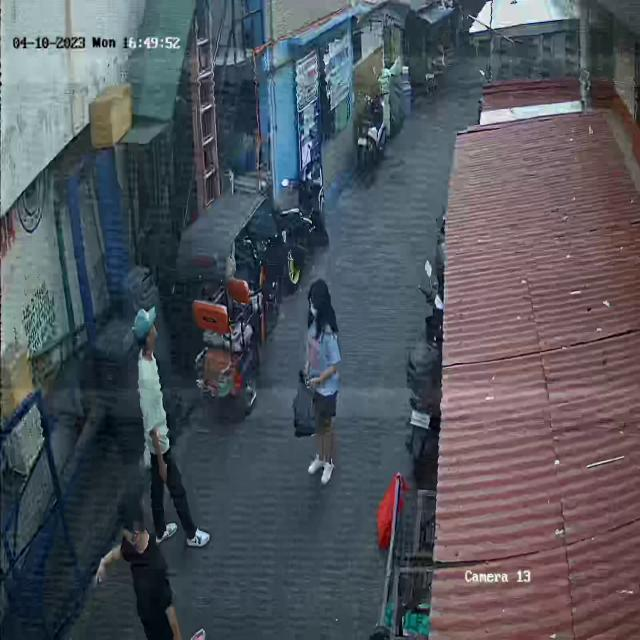human: (293, 279, 342, 485)
trash: (288, 366, 316, 441)
